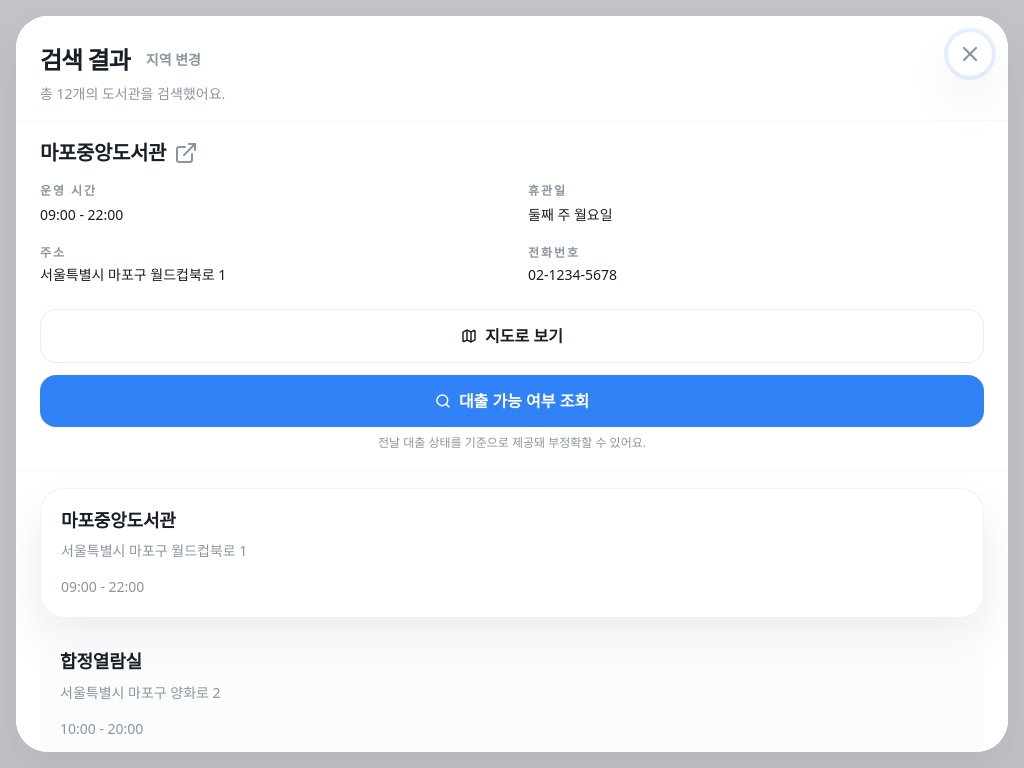
it: LibrarySearchResultDialog › 모바일에서는 선택한 도서관 위치를 바로 지도에서 볼 수 있다
This screenshot has width=1024, height=768.
Expected: the dialog "도서관 위치 지도" is not shown
Click the button "지도로 보기" at (512,336), box [40,309,984,363]
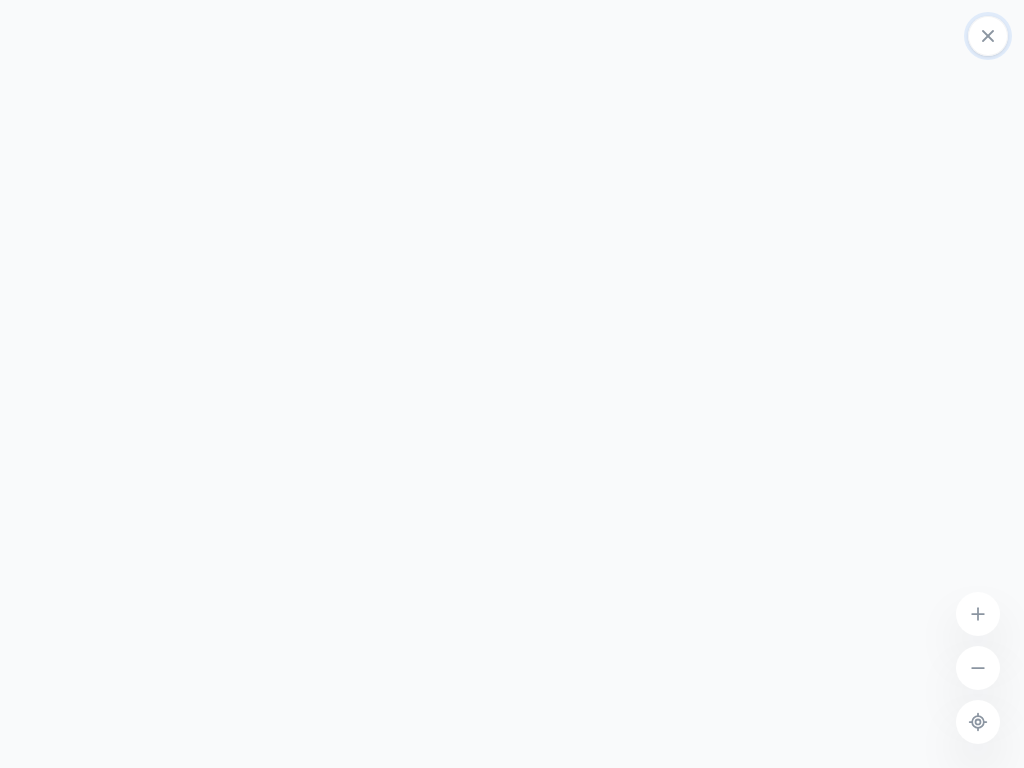
Now the dialog named "도서관 위치 지도" is shown
Now the button named "지도 닫기" is shown, box [968,16,1008,56]
